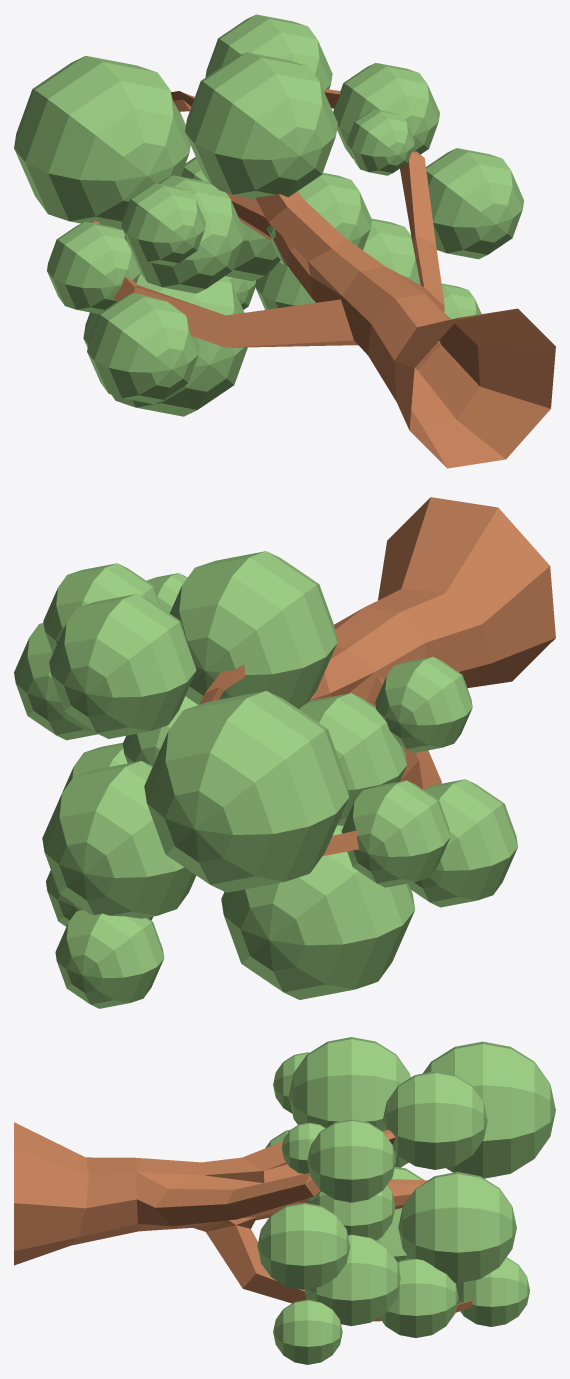
The model's file is Árbol 2.fbx.
The picture shows the model from 3 angles, top to bottom: view 1: azimuth 30°, elevation 25°; view 2: azimuth 150°, elevation 25°; view 3: azimuth 270°, elevation 25°; orthographic projection. The views are drawn at different scales.
Visible parts, largest first — view 1: Circle.001; view 2: Circle.001; view 3: Circle.001.
Part boxes in pixels (x1=…): Circle.001: x1=14, y1=14, x2=555, y2=468; Circle.001: x1=14, y1=497, x2=555, y2=1008; Circle.001: x1=14, y1=1037, x2=555, y2=1364.
Bounding box in the file's own units: 1495 × 1171 × 2034.
